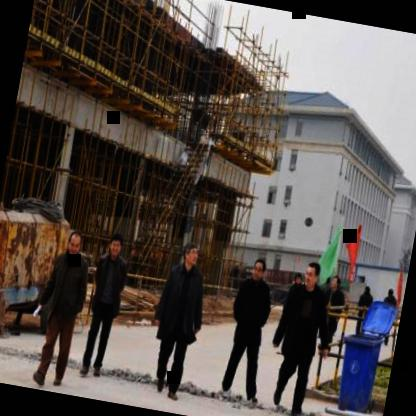head: (298, 258, 325, 292), (61, 224, 85, 258), (245, 252, 270, 284), (180, 238, 200, 267), (104, 231, 125, 257), (326, 271, 342, 293)
